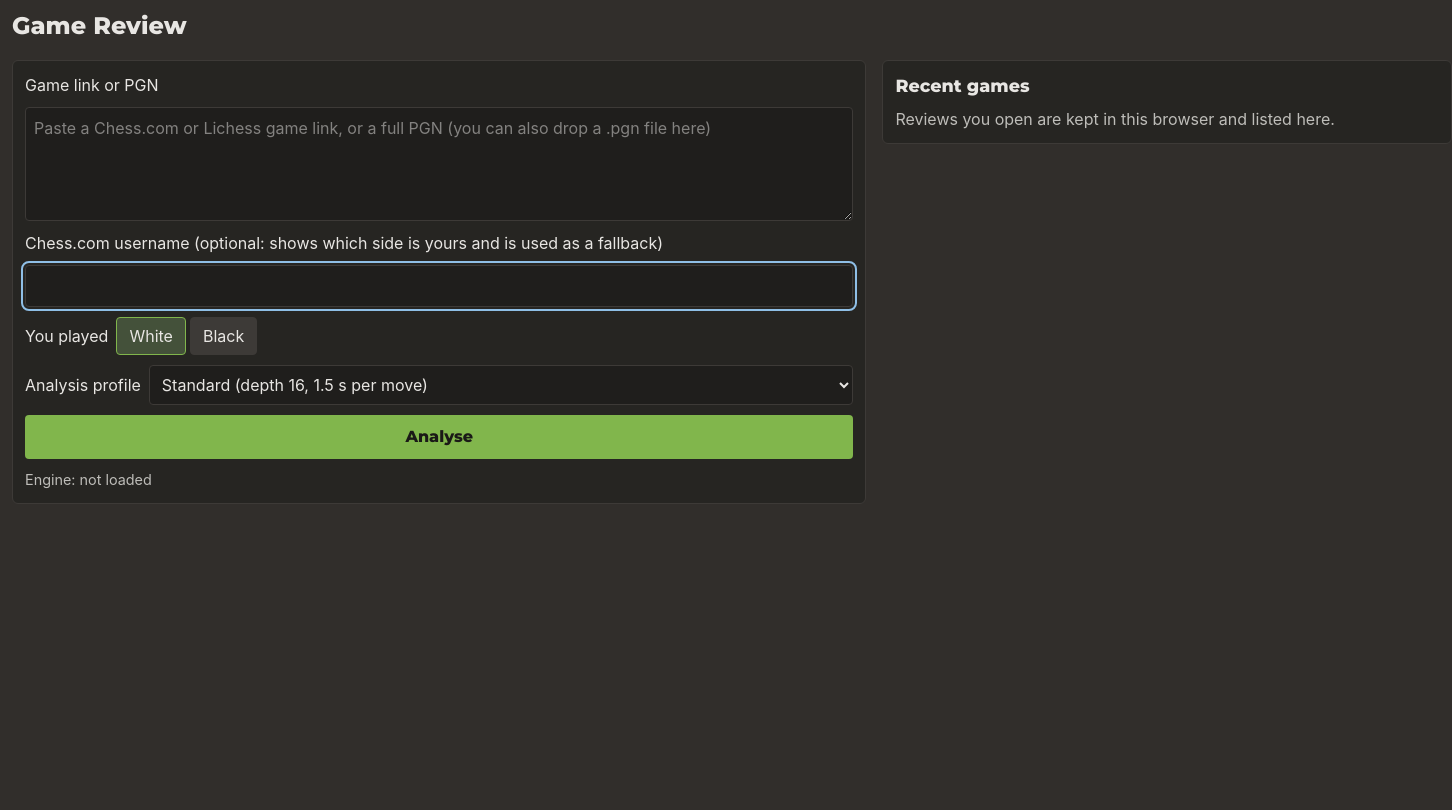
Test case: error panel renders by key (G.6, Appendix F) › an in-progress game asks for confirmation with "Analyse so far" (I-4)
Replace the text in the text box with test id "import-input" with "x" at (439, 164), box [25,107,853,221]
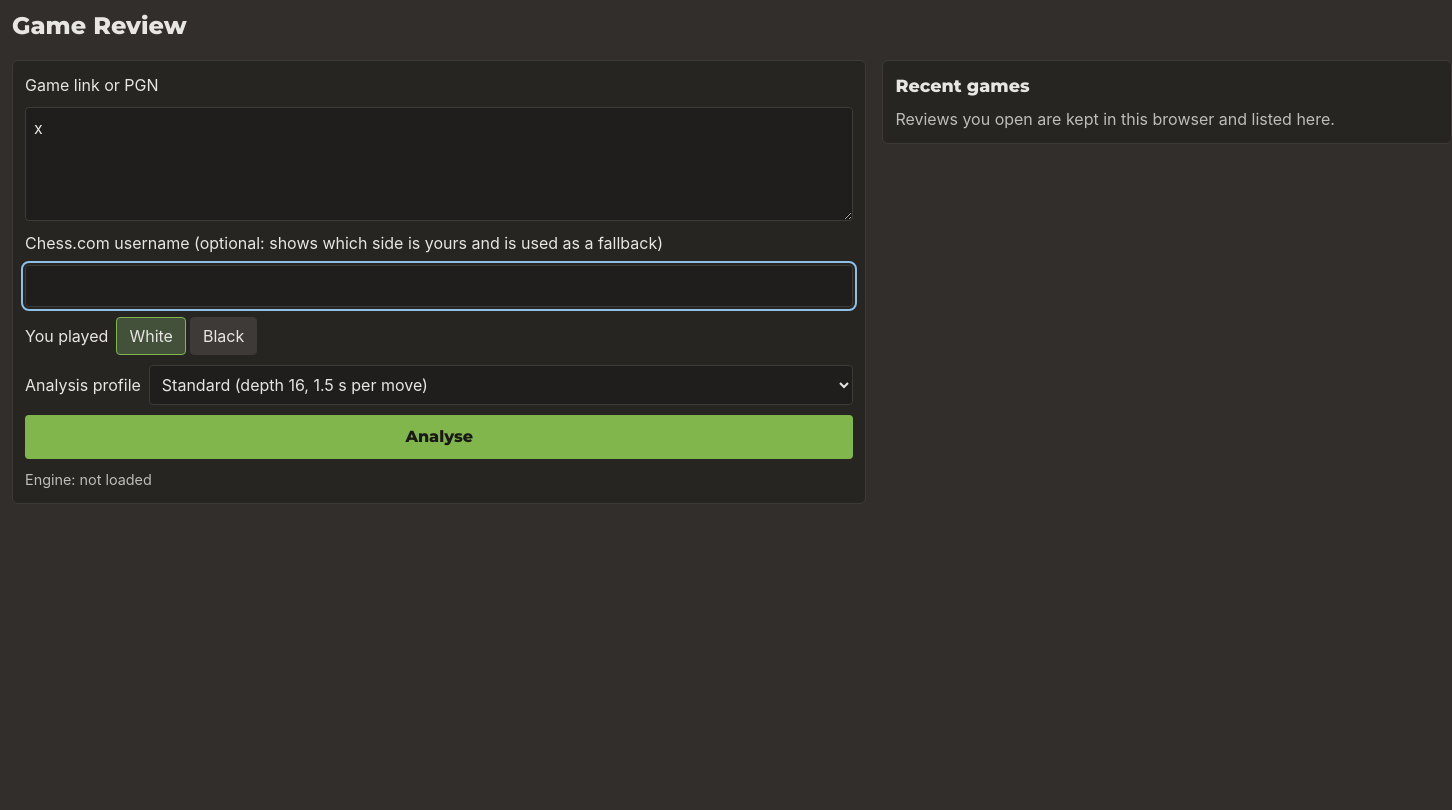
Click the button with test id "import-submit" at (439, 437), box [25,415,853,459]
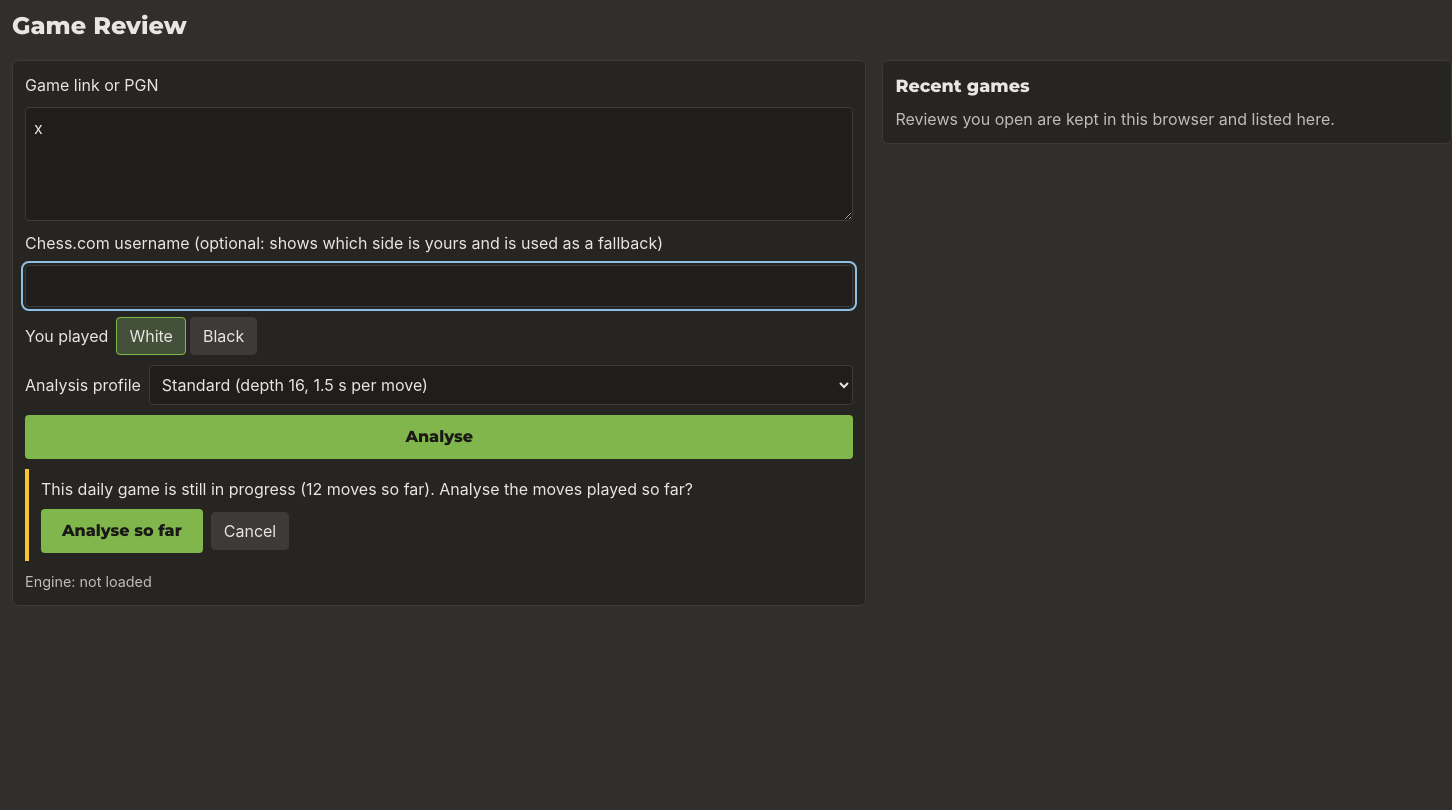
expect the button with test id "confirm-in-progress" reads "Analyse so far": met, box [41,509,203,553]
expect the text "This daily game is still in progress (12 moves so far)" is shown: met, box [41,479,693,499]
